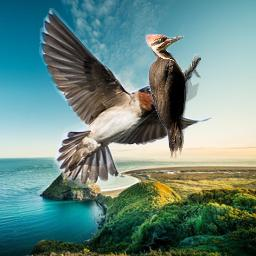Swallow: (38, 8, 214, 188)
Woodpecker: (145, 34, 201, 159)
